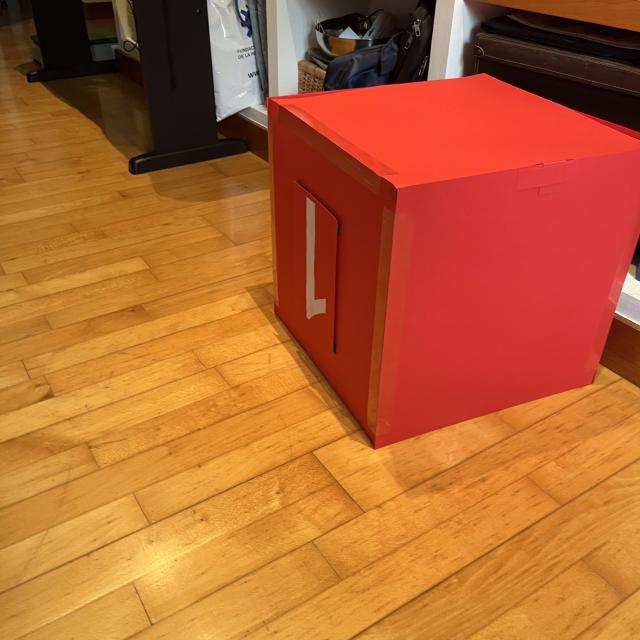box: (262, 70, 637, 450)
